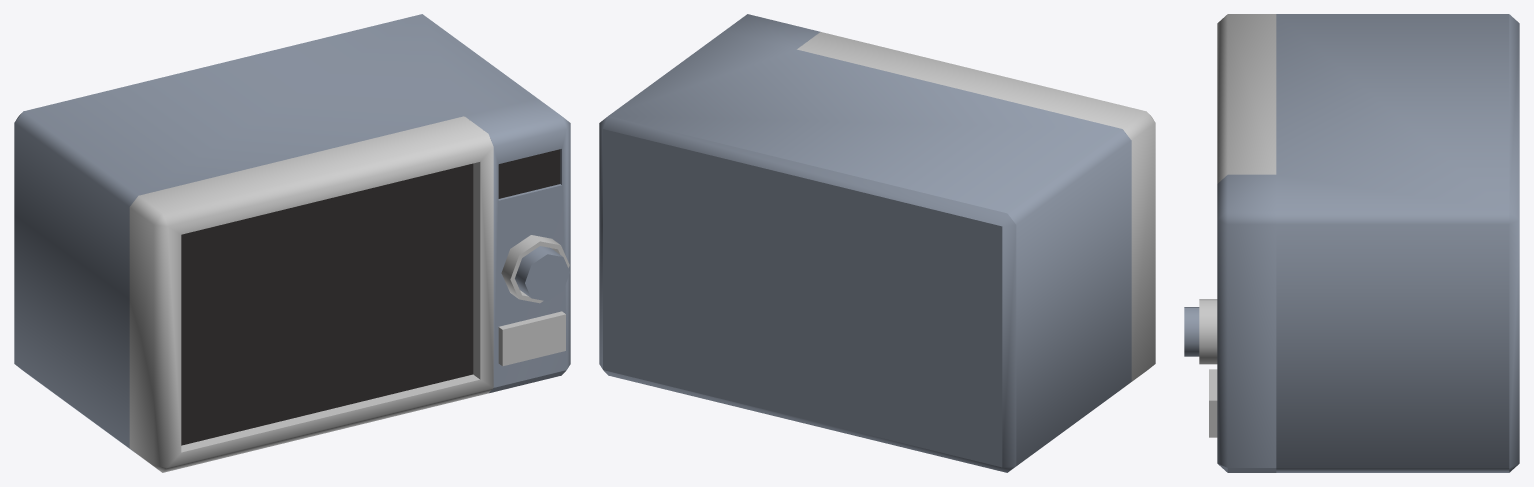
The model's file is microwave range.FBX.
3 views of the same model, side by side, from view 1: azimuth 30°, elevation 25°; view 2: azimuth 150°, elevation 25°; view 3: azimuth 270°, elevation 25° (orthographic).
Visible parts, largest first — view 1: microwave range1, microwave range2; view 2: microwave range2, microwave range1; view 3: microwave range2, microwave range1.
Boxes of the visible parts, x1=… form: microwave range1: x1=129, y1=116, x2=493, y2=472; microwave range2: x1=14, y1=14, x2=570, y2=453; microwave range2: x1=599, y1=14, x2=1131, y2=472; microwave range1: x1=797, y1=32, x2=1155, y2=387; microwave range2: x1=1184, y1=14, x2=1519, y2=472; microwave range1: x1=1217, y1=14, x2=1276, y2=183.
Size of the model in its own units: 75.34 by 44.82 by 51.95.
